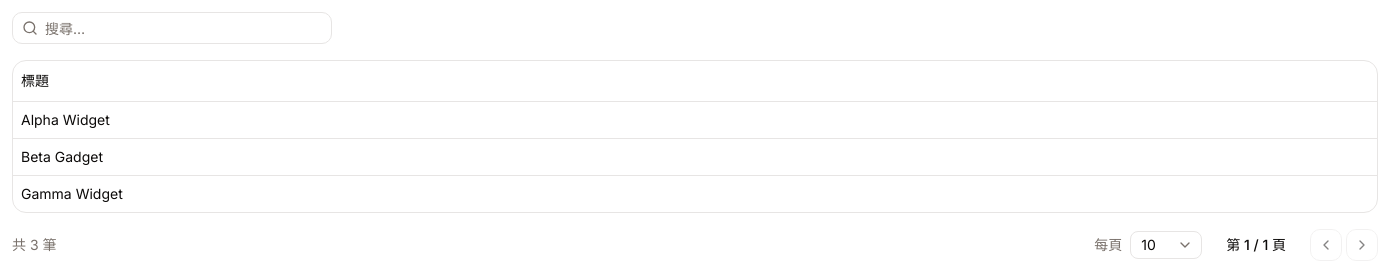
Test: DataTable — global filter › typing into the filter box narrows visible rows and updates the row count
Check: the text "Alpha Widget" is shown, box [13,101,1377,138]
Check: the text "Beta Gadget" is shown, box [13,138,1377,175]
In the field with placeholder "搜尋…": (172, 28) [12,12,332,44], type "Widget"
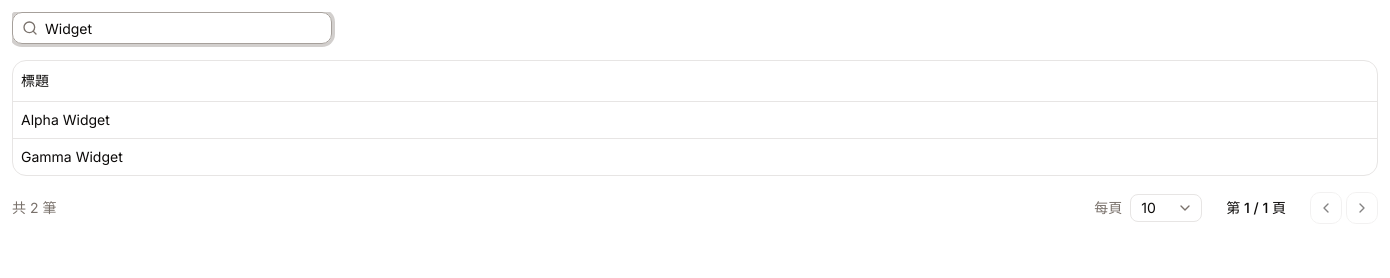
Check: the text "Alpha Widget" is shown, box [13,101,1377,138]
Check: the text "Beta Gadget" is gone
Check: the text "共 2 筆" is shown, box [12,198,56,218]
